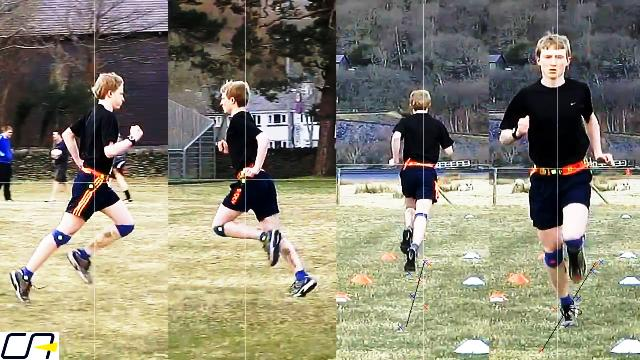berlari: (499, 28, 615, 336), (8, 70, 154, 307), (189, 72, 323, 300), (378, 78, 462, 272)
